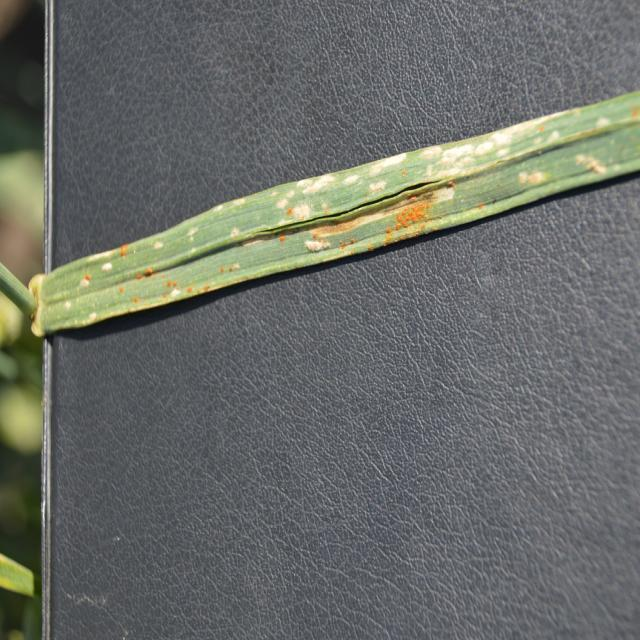wheat-powdery-mildew: (0, 88, 640, 343)
